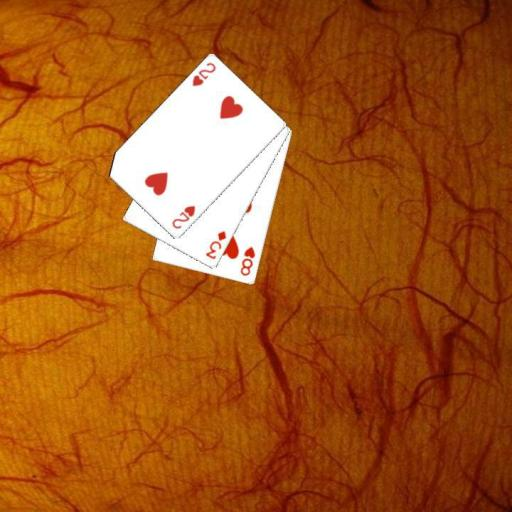2H: (169, 203, 197, 231), (189, 60, 217, 88)
3D: (202, 228, 228, 261)
8H: (238, 244, 257, 278)
